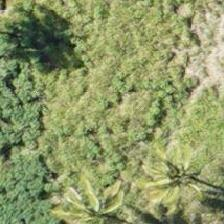coconut_tree: (137, 130, 223, 220), (57, 165, 147, 223)
